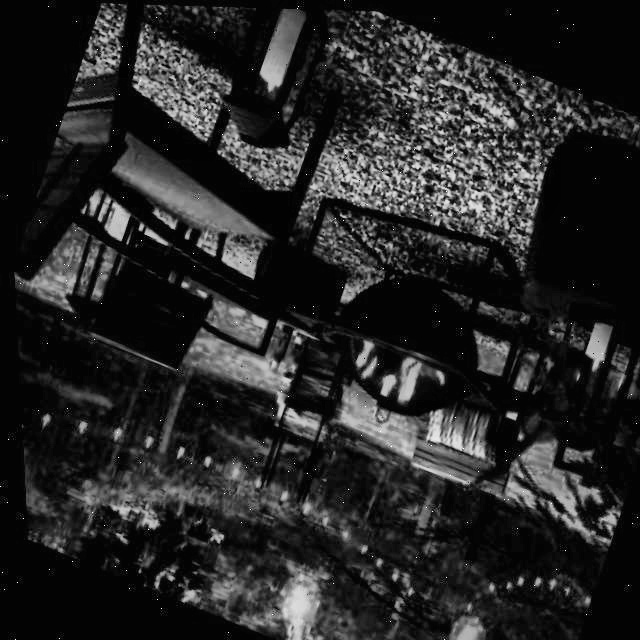Fire: (325, 320, 449, 423)
